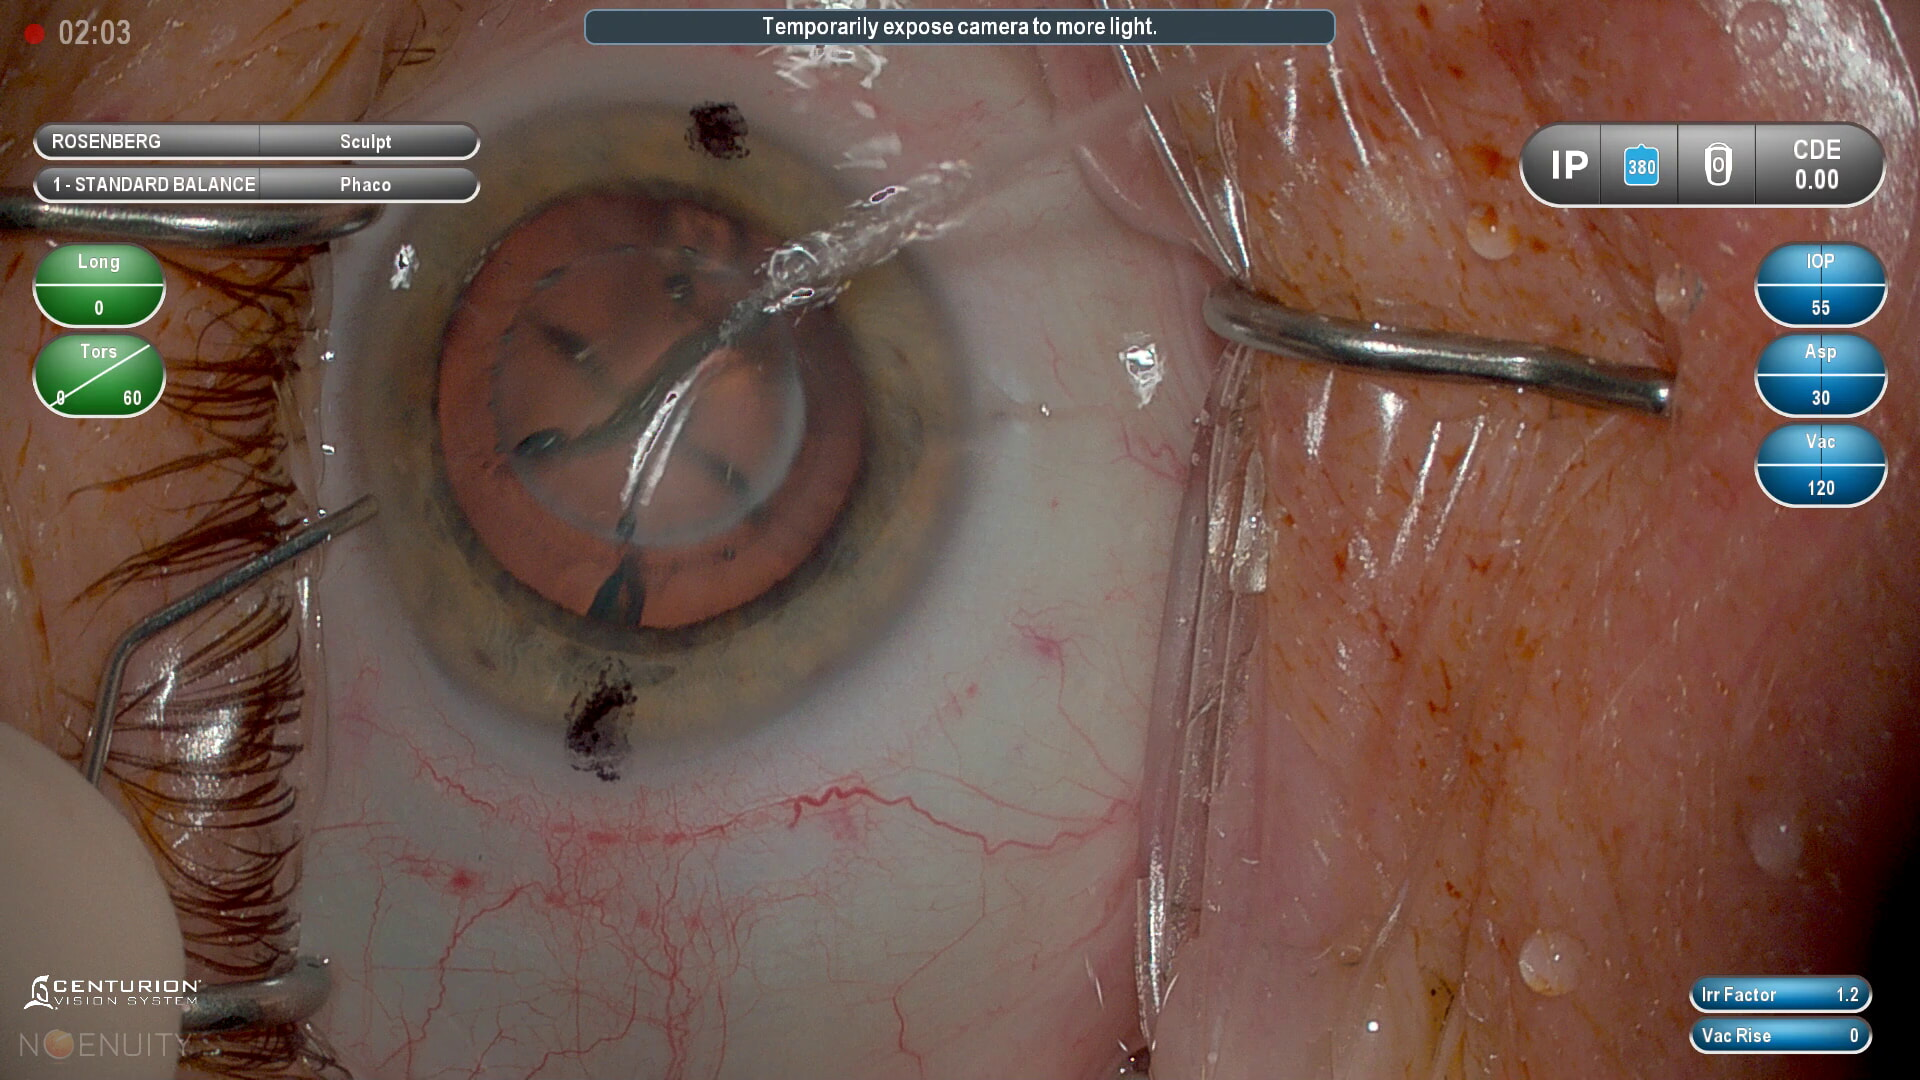iris: (355, 109, 971, 755)
pupil: (438, 189, 871, 634)
